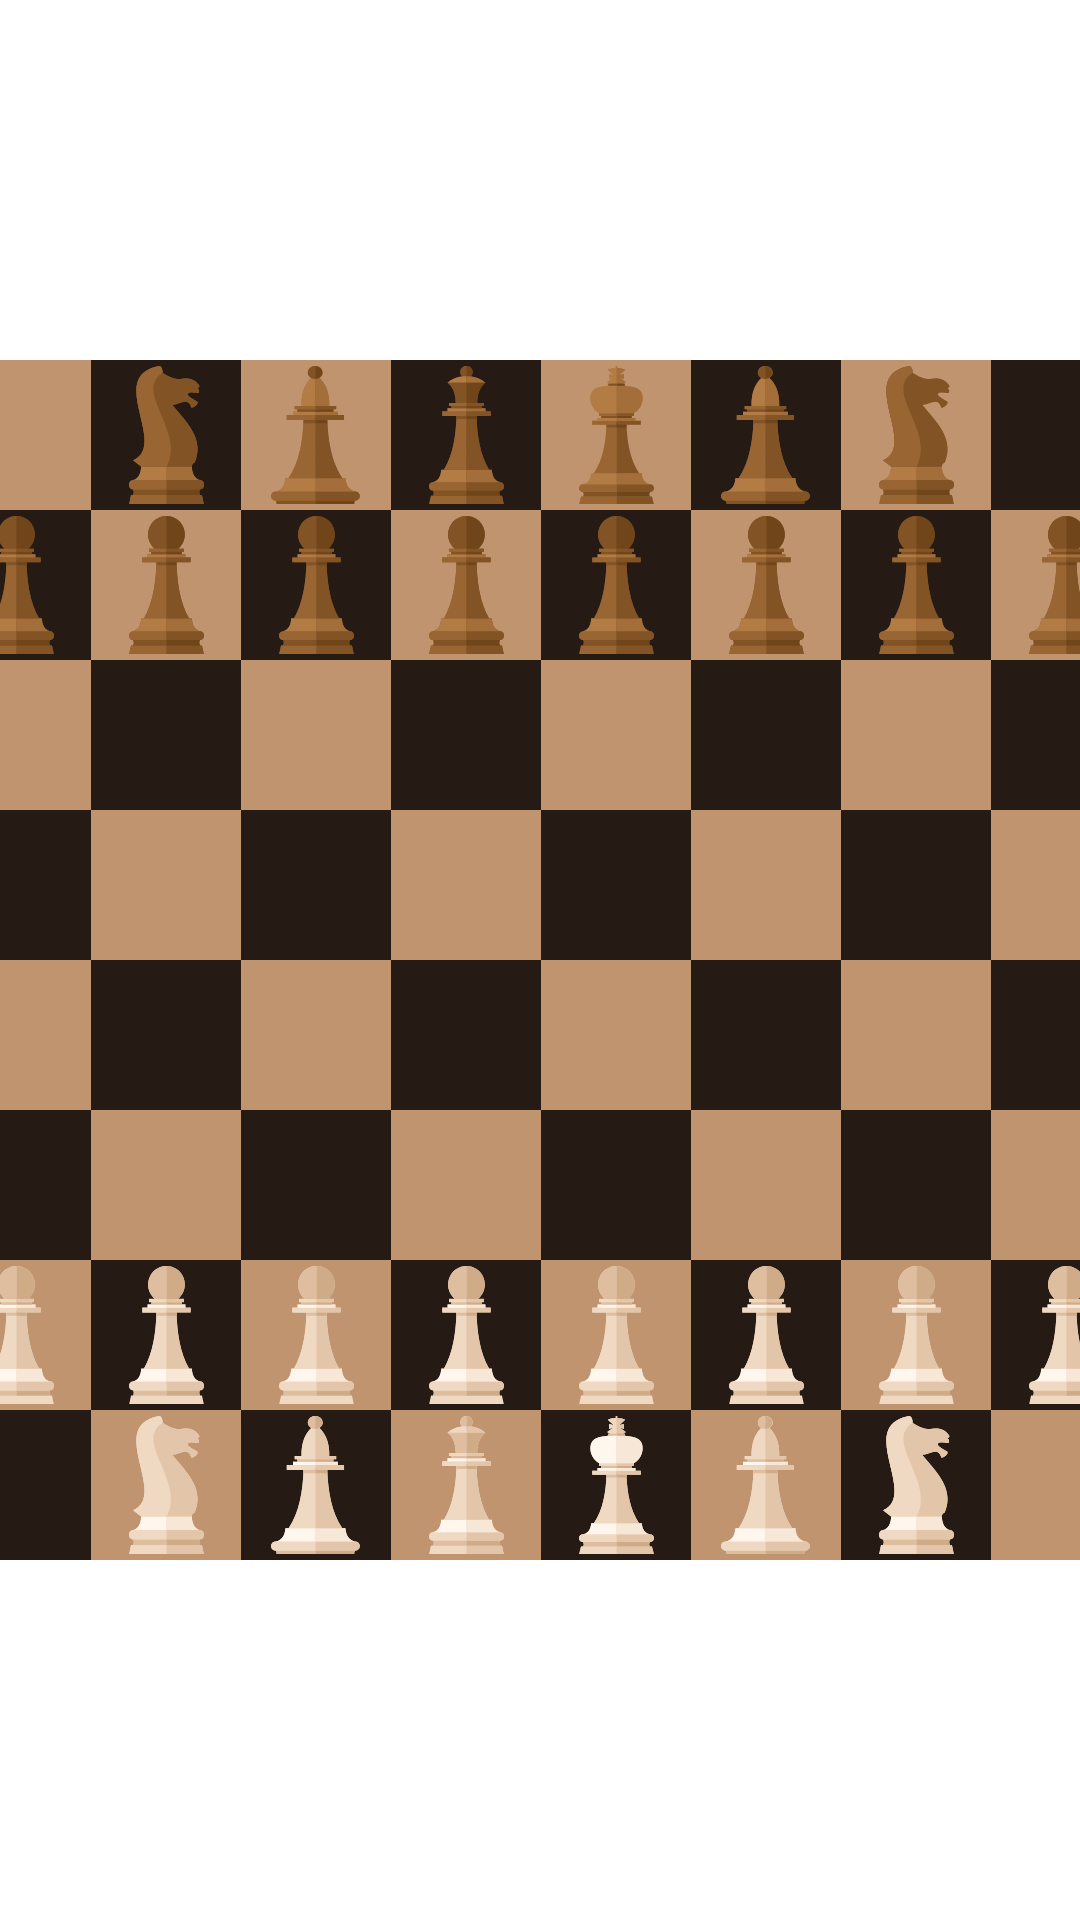

Icon bounding boxes for this 1080w x 1920h phone screenshot, format (x1, y1, x2, y2):
bishop: (241, 360, 391, 510), (691, 360, 841, 510), (241, 1410, 391, 1560), (691, 1410, 841, 1560)
king: (541, 360, 691, 510), (541, 1410, 691, 1560)
knight: (91, 360, 241, 510), (841, 360, 991, 510), (91, 1410, 241, 1560), (841, 1410, 991, 1560)
queen: (391, 360, 541, 510), (391, 1410, 541, 1560)
